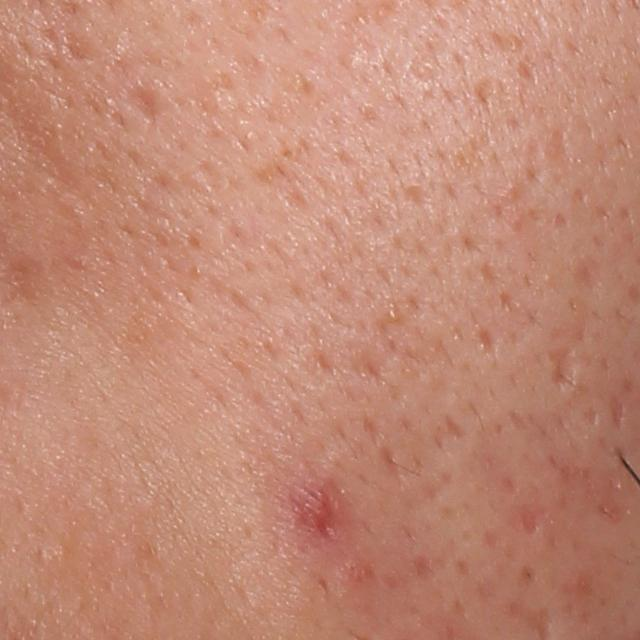atrophic_scar: (546, 343, 580, 388), (572, 256, 610, 296), (132, 84, 160, 125), (544, 124, 572, 161), (476, 327, 502, 365), (609, 393, 629, 436), (380, 441, 403, 478), (476, 80, 499, 109), (404, 186, 428, 213), (448, 412, 466, 442)
papule: (303, 492, 337, 536)
